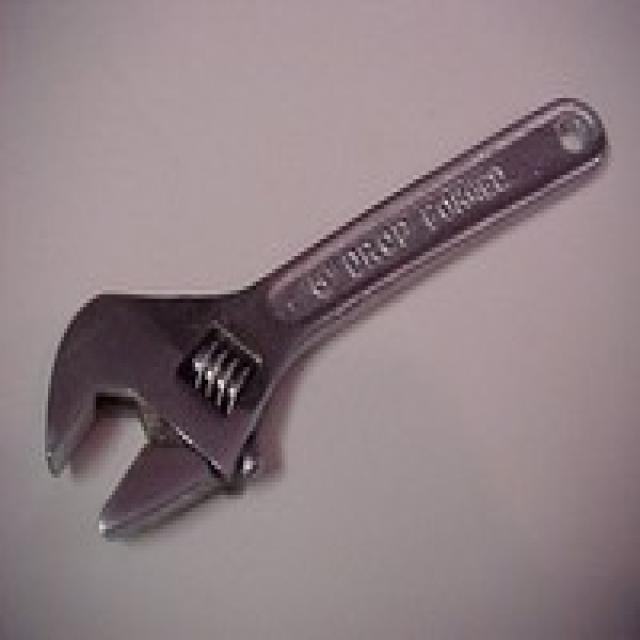wrench: (0, 67, 611, 573)
